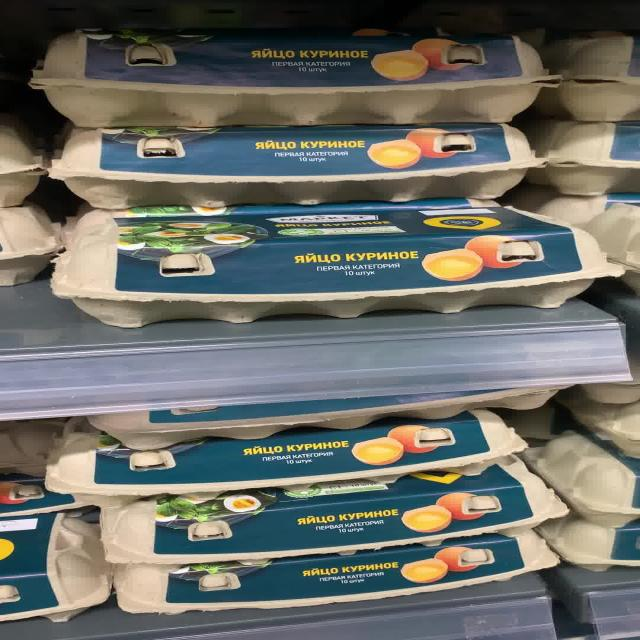egg box: (45, 205, 618, 328), (28, 22, 561, 124), (102, 454, 566, 565), (47, 124, 547, 209), (44, 410, 528, 495), (114, 524, 559, 614)
